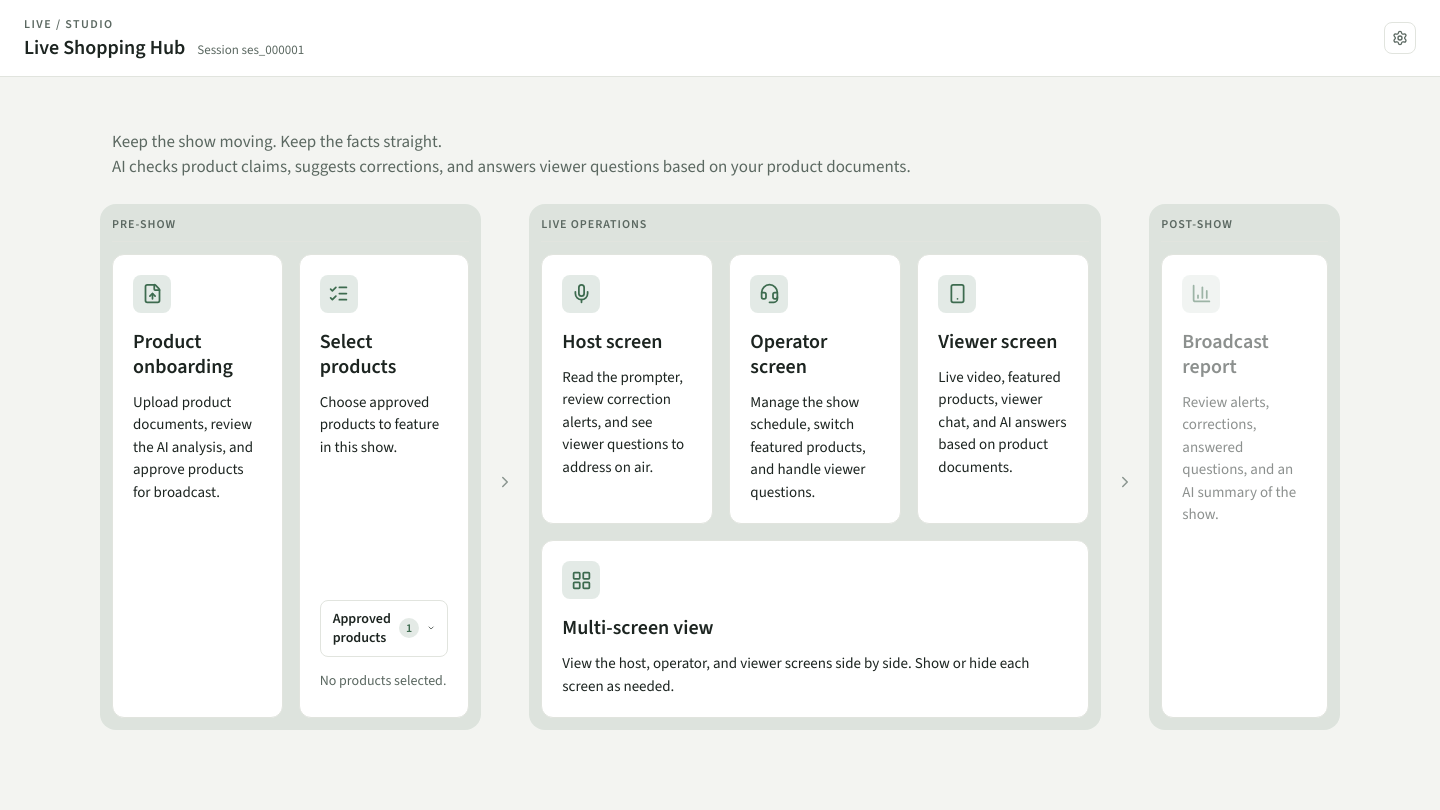
Test: screens › D-319: the approved-products popover closes on Escape and on an outside click, focus back on its button
This screenshot has width=1440, height=810.
Click the button with test id "hub-releases-open" at (384, 628), box left=320, top=600, right=448, bottom=657
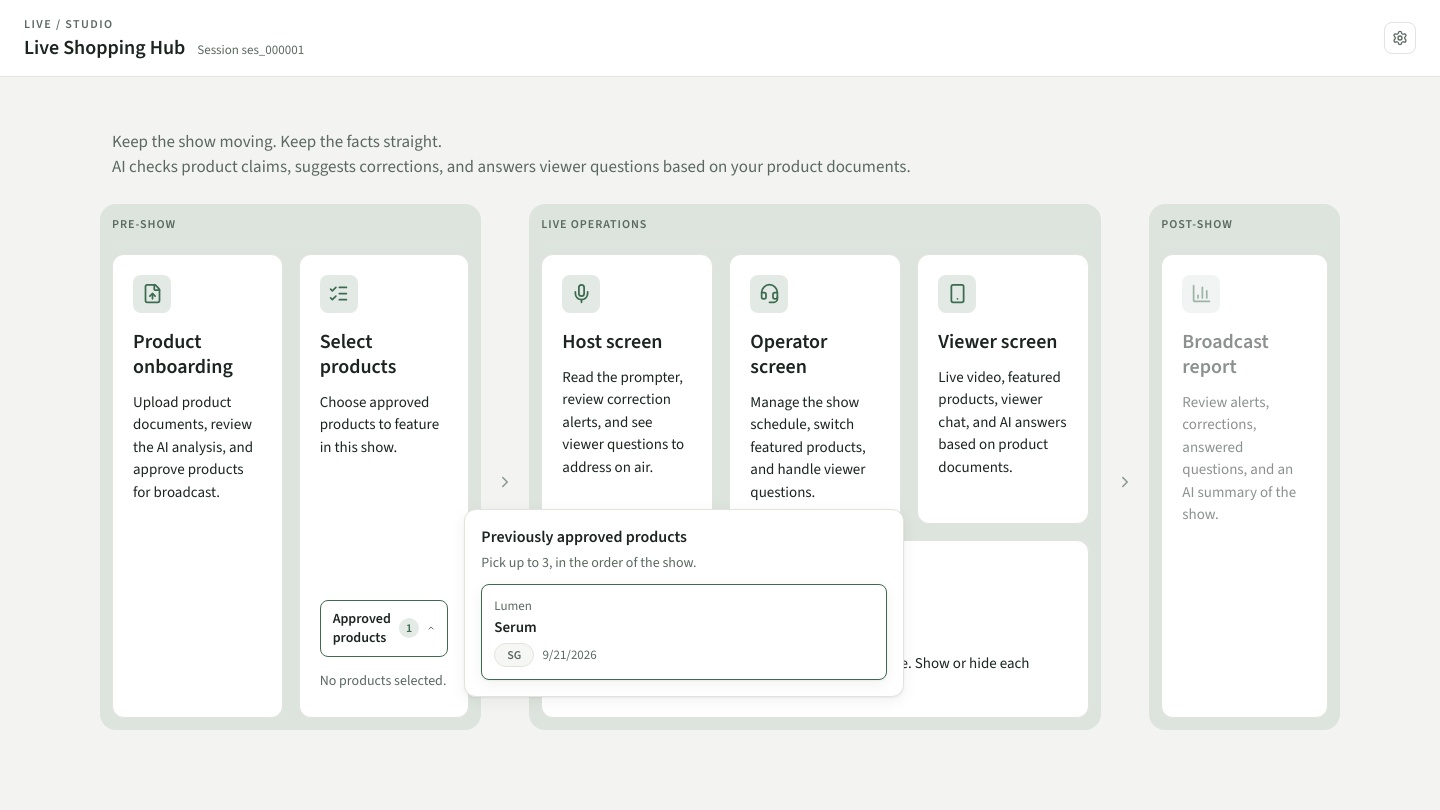
Press Escape
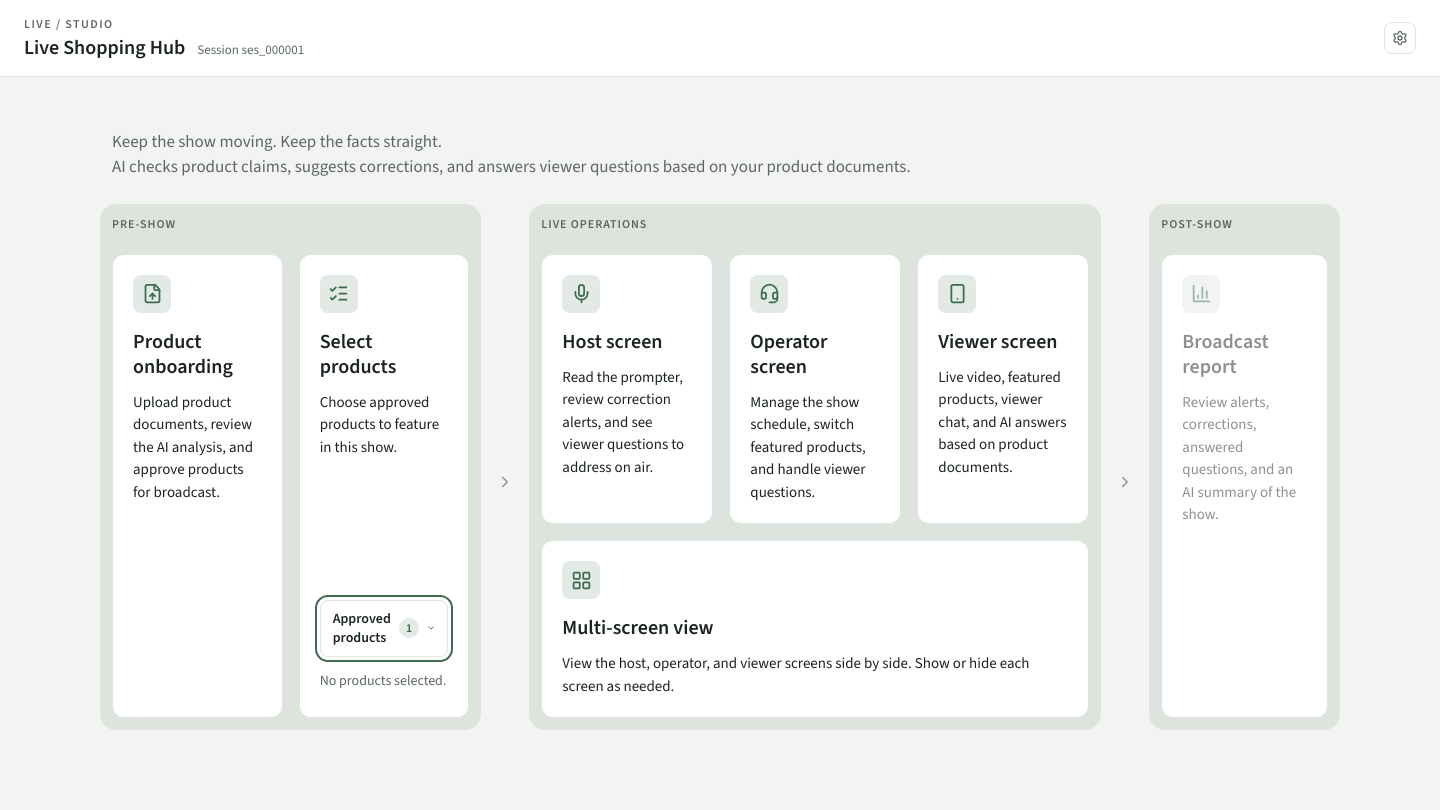
Result: the dialog is gone
Click the button with test id "hub-releases-open" at (384, 628), box left=320, top=600, right=448, bottom=657
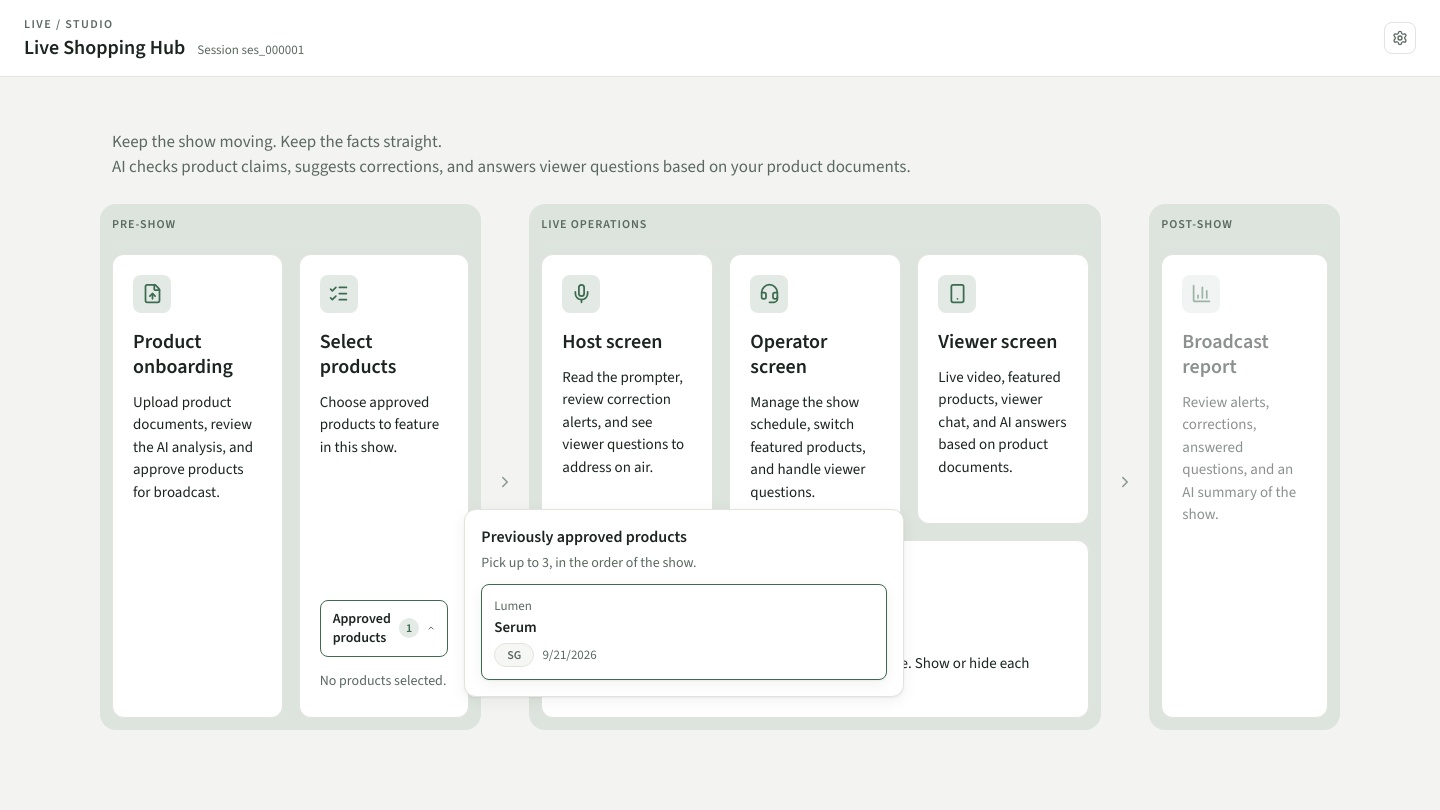
Press the mouse on the button with test id "hub-release-rel_a" at (513, 606), box left=481, top=584, right=887, bottom=680
Result: the dialog is shown at left=464, top=509, right=904, bottom=697
Press the mouse on the element that starts with "LIVE / STUDIO" at (720, 405), box left=0, top=0, right=1439, bottom=809
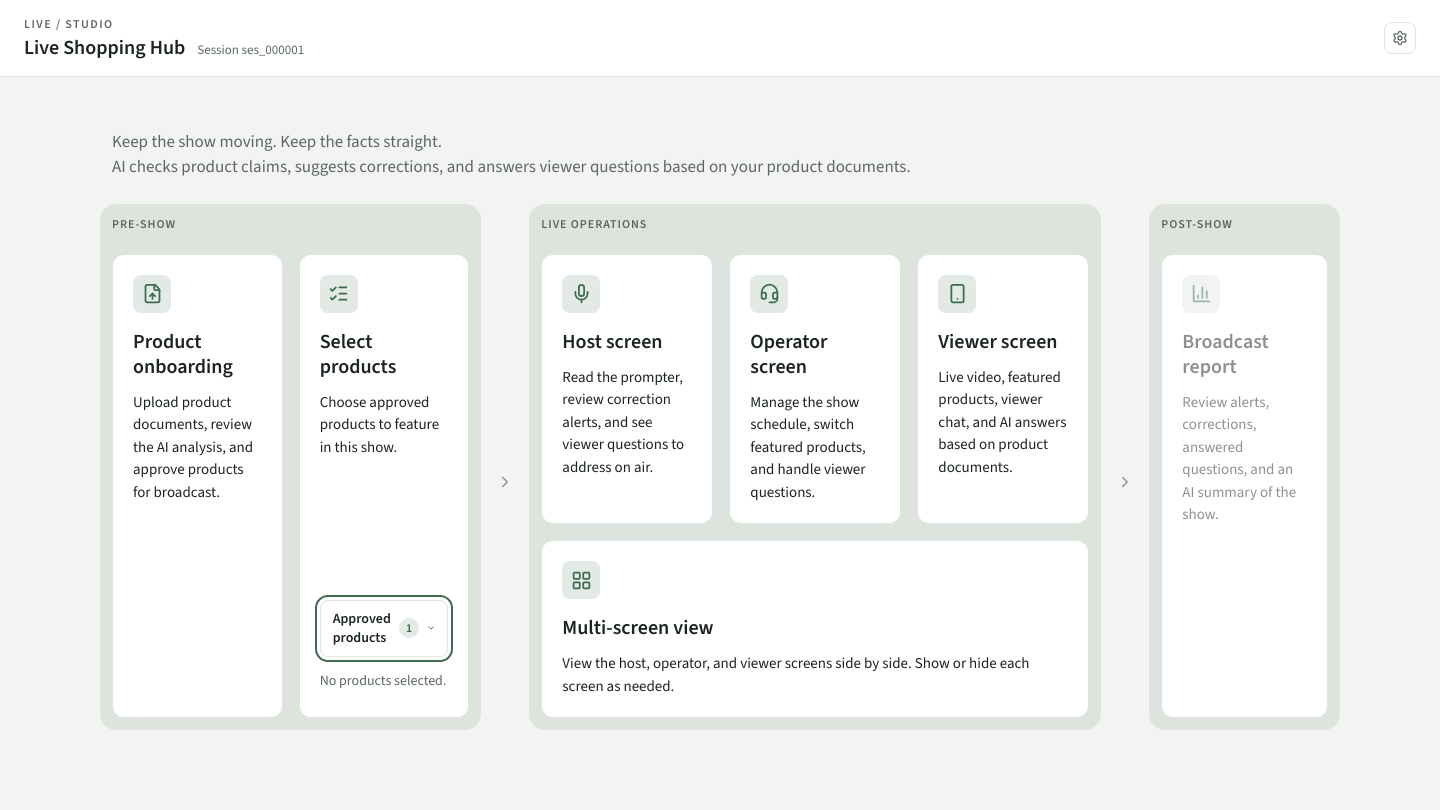
Result: the dialog is gone
